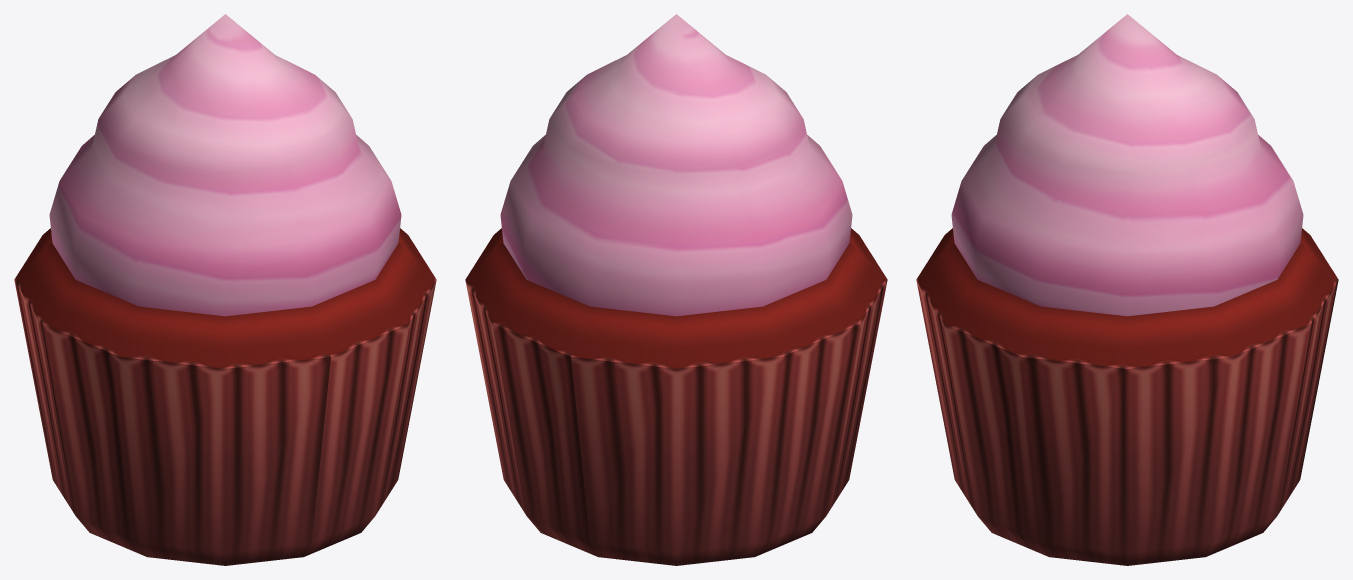
The model's file is 009-Cupcakes_011.FBX.
3 renders of one model, left to right at view 1: azimuth 30°, elevation 25°; view 2: azimuth 150°, elevation 25°; view 3: azimuth 270°, elevation 25°, orthographic.
Visible parts, largest first — view 1: 009-Cupcakes_011; view 2: 009-Cupcakes_011; view 3: 009-Cupcakes_011.
Part boxes in pixels (left/top/right/bottom): 009-Cupcakes_011: left=14, top=14, right=436, bottom=565; 009-Cupcakes_011: left=465, top=14, right=887, bottom=565; 009-Cupcakes_011: left=916, top=14, right=1338, bottom=565.
Size of the model in its own units: 12.34 by 15.65 by 12.34.
